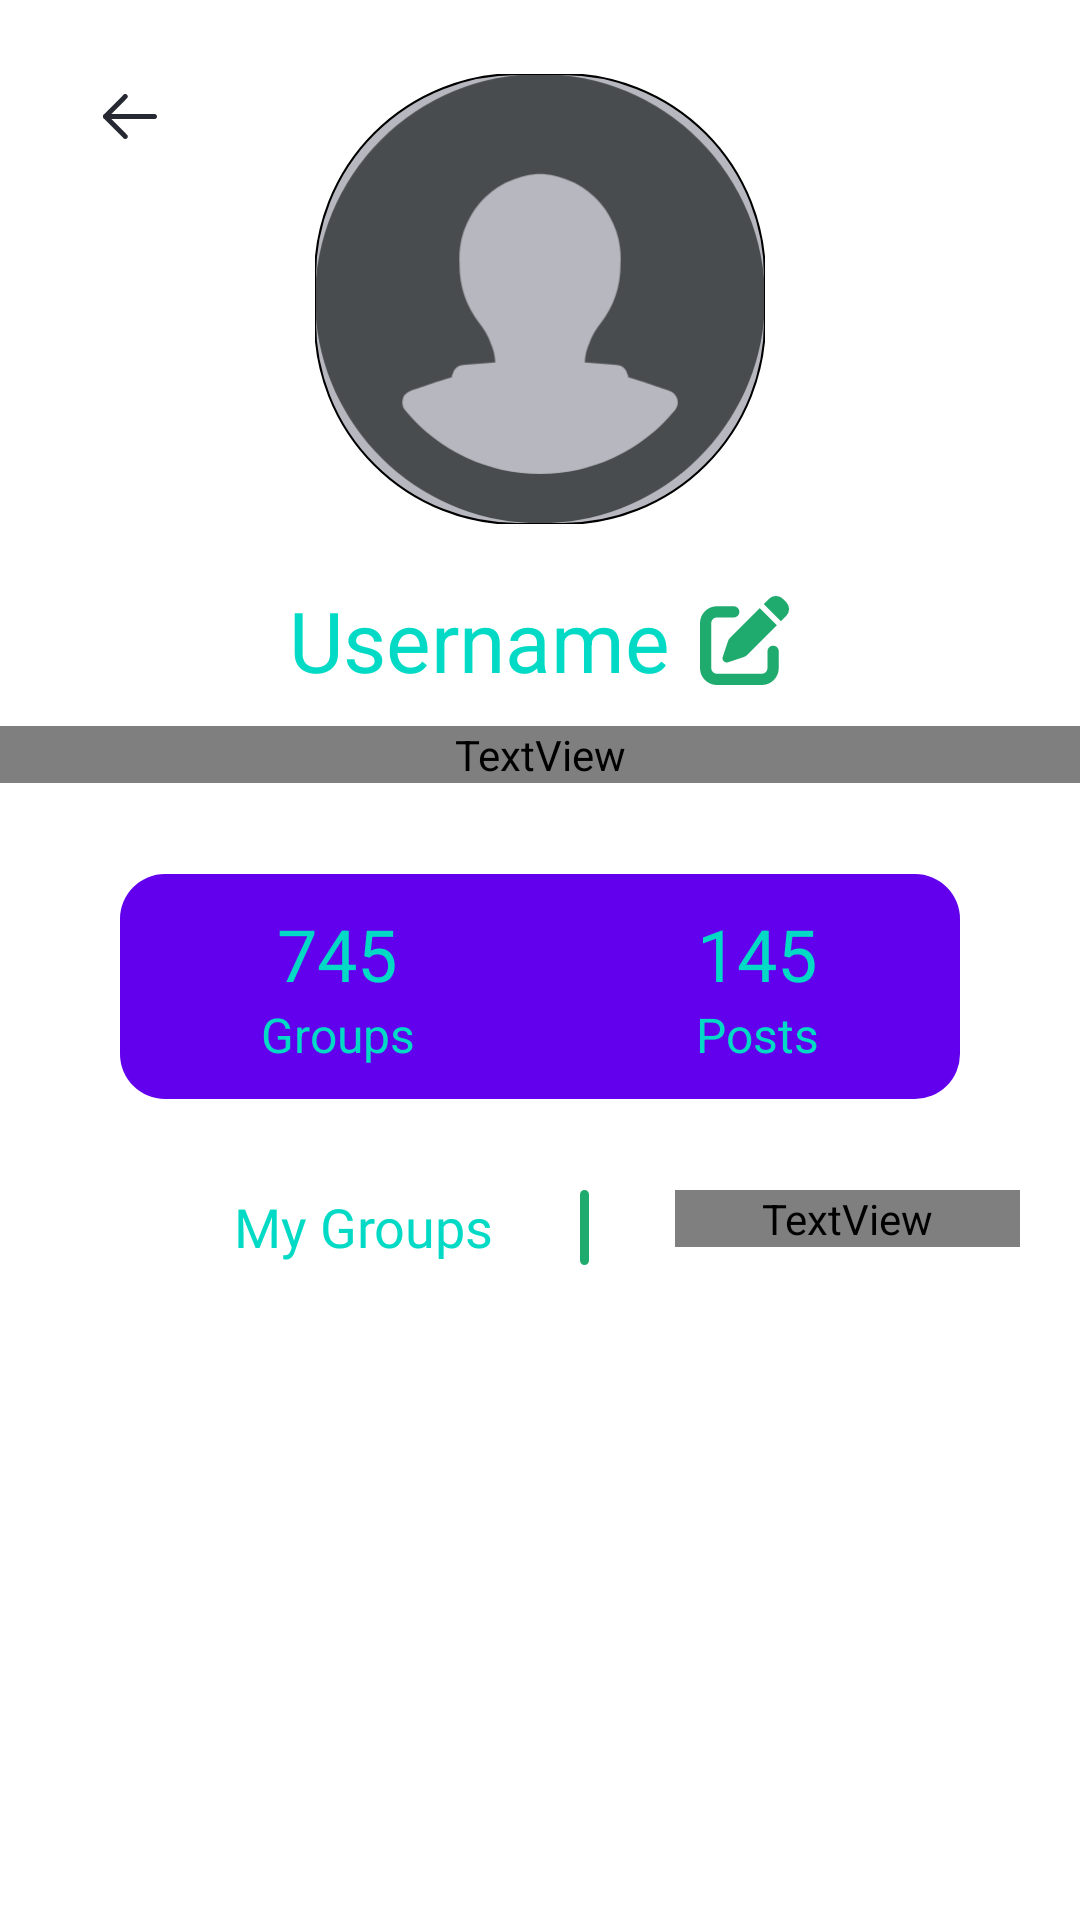

Point at icon controls on the screen. Image size 1080 x 1920, points as point (x, y).
arrow left: point (130, 116)
profile edit: point (744, 640)
